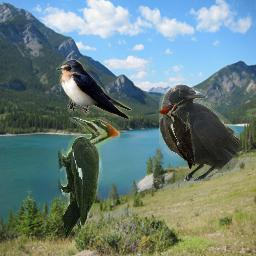Crow: (159, 84, 240, 181)
Swallow: (56, 58, 132, 121)
Woodpecker: (58, 117, 120, 239), (157, 99, 195, 169)
